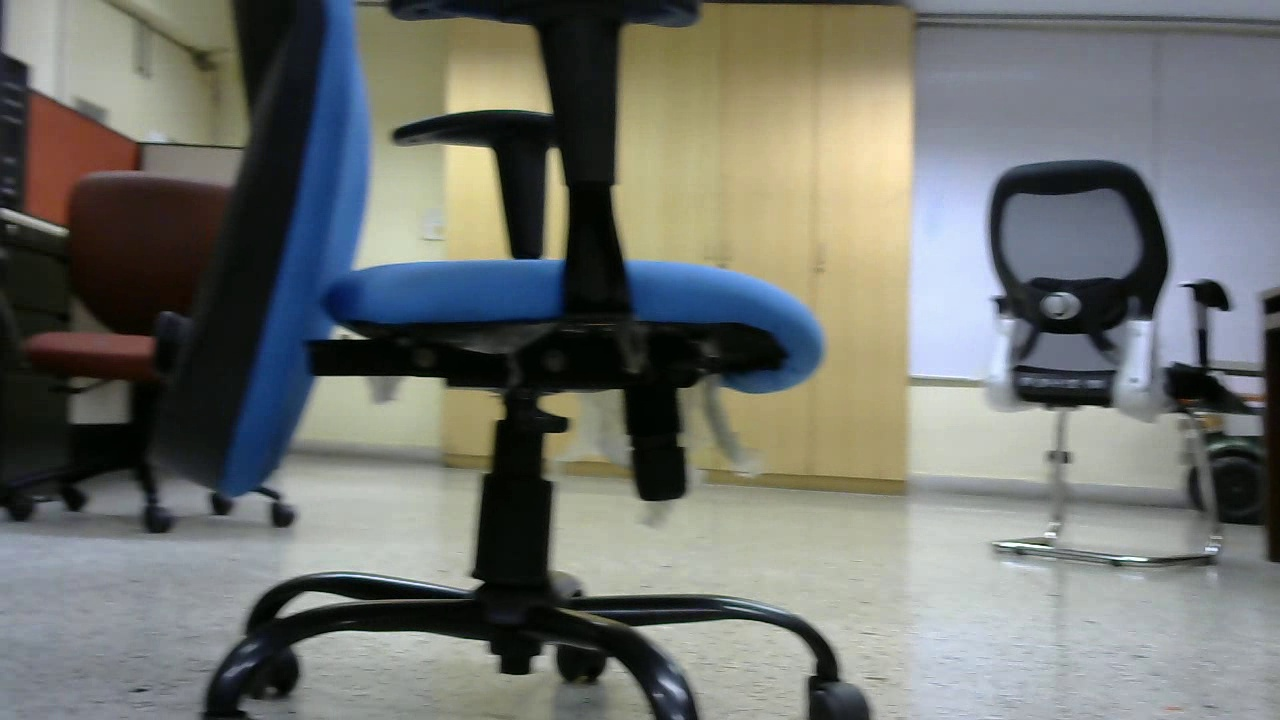chair: (223, 7, 879, 720), (20, 132, 296, 535)
